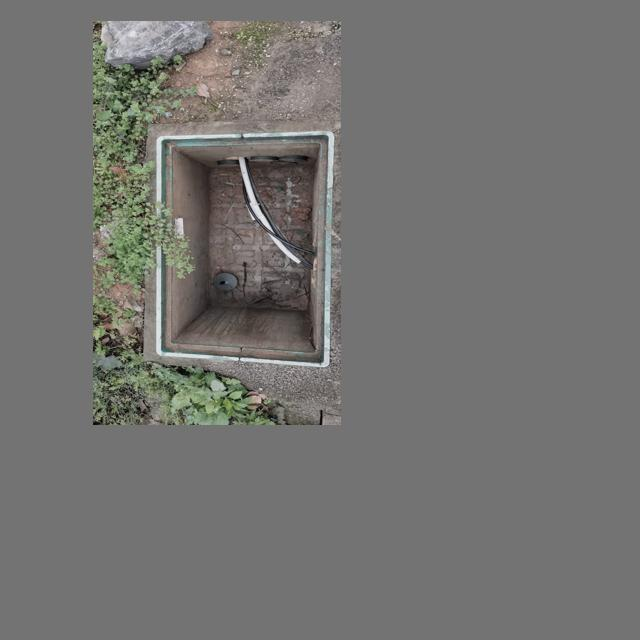lose: (156, 129, 335, 368)
